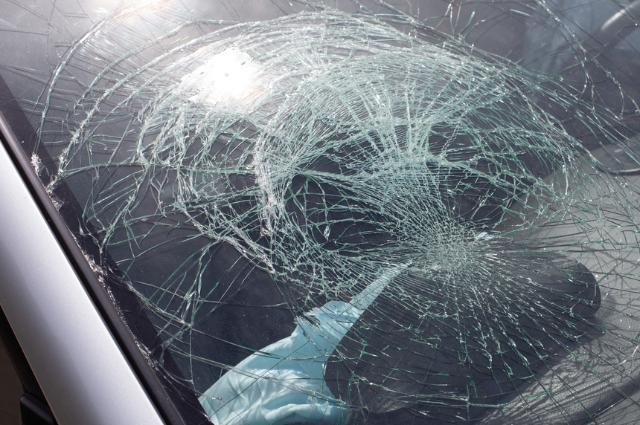Windshield: (1, 0, 638, 424)
